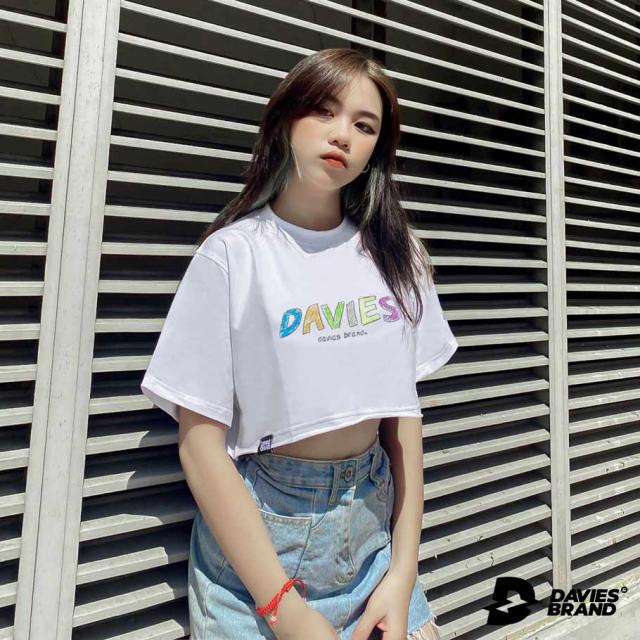clothes: (173, 214, 457, 640)
